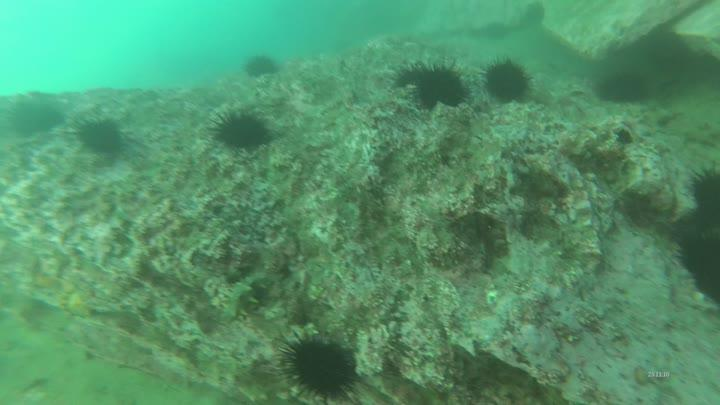urchin: (280, 325, 359, 401), (395, 55, 465, 111), (673, 233, 720, 303), (210, 103, 271, 152), (482, 53, 534, 106), (592, 65, 653, 105), (70, 110, 124, 152), (685, 165, 720, 221), (243, 47, 280, 79)
